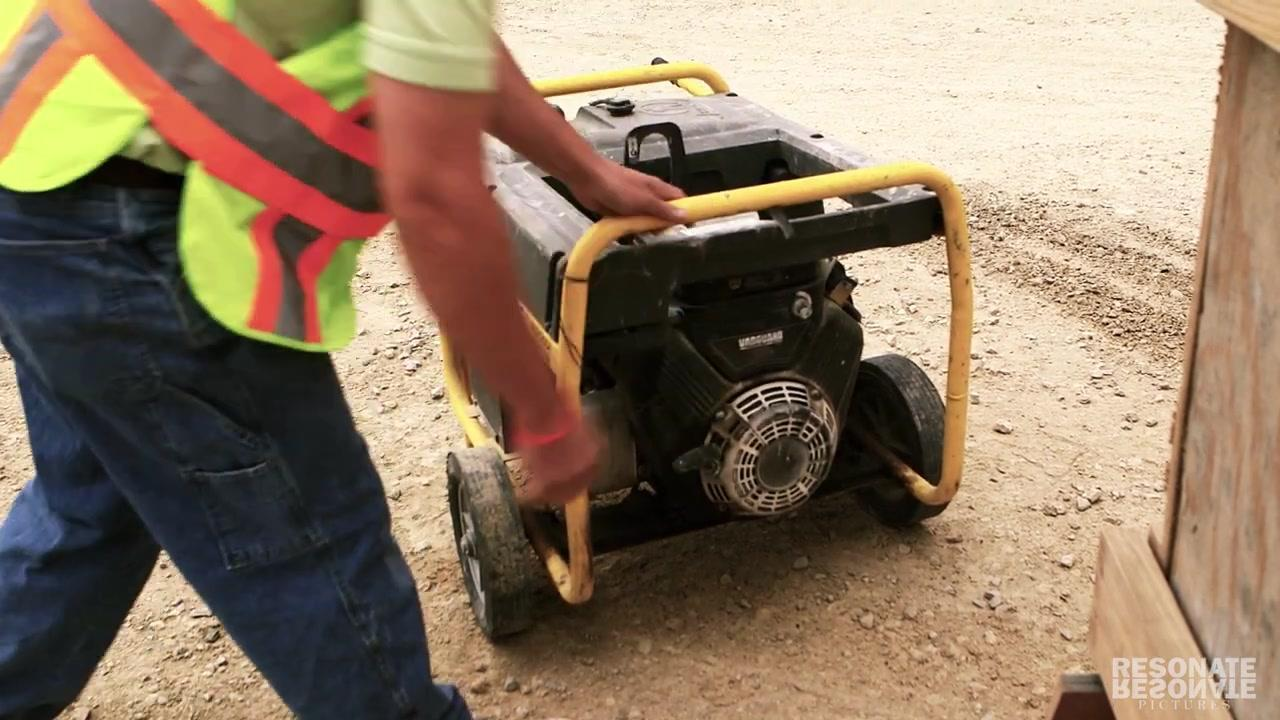vest: (0, 0, 393, 354)
